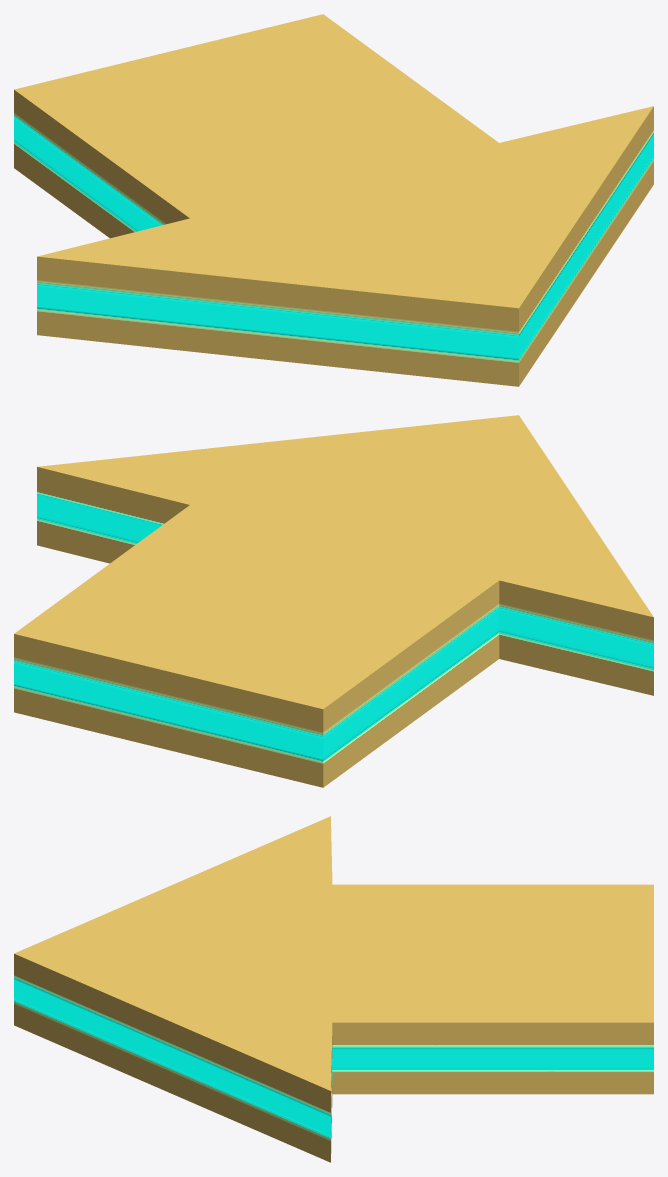
Rendered from ArrowFour.glb.
3 views of the same model, one above another, from view 1: azimuth 30°, elevation 25°; view 2: azimuth 150°, elevation 25°; view 3: azimuth 270°, elevation 25° (orthographic). The views are drawn at different scales.
Visible parts, largest first — view 1: Object_2; view 2: Object_2; view 3: Object_2.
Boxes of the visible parts, x1,y1,x2,y2 form: Object_2: (14, 14, 653, 386); Object_2: (14, 415, 653, 787); Object_2: (14, 816, 653, 1162).
Size of the model in its own units: 6.26 by 0.7619 by 6.16.
Materials: 1 (1 with a texture image).
